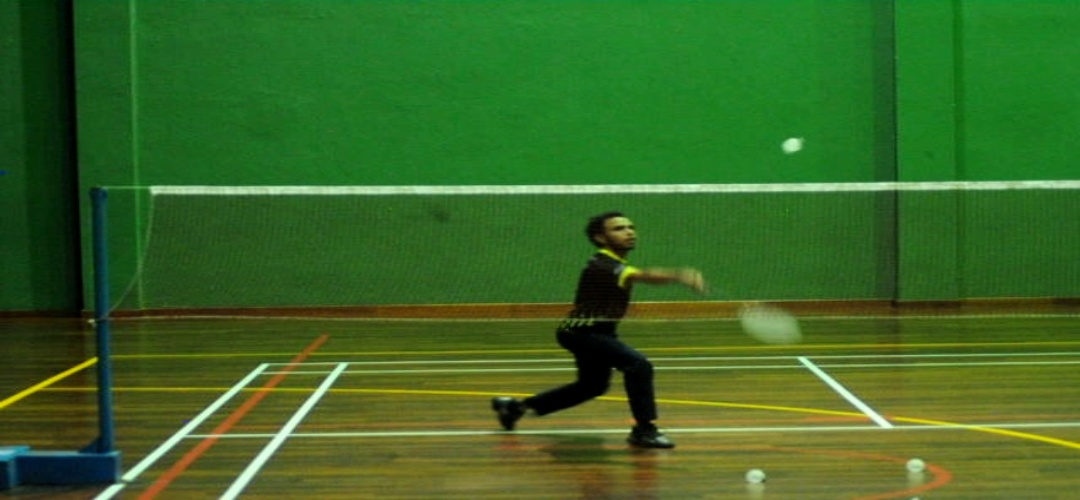c1: (269, 425, 298, 445)
c2: (875, 414, 902, 439)
player: (486, 211, 685, 449)
shuttle: (780, 135, 810, 158)
